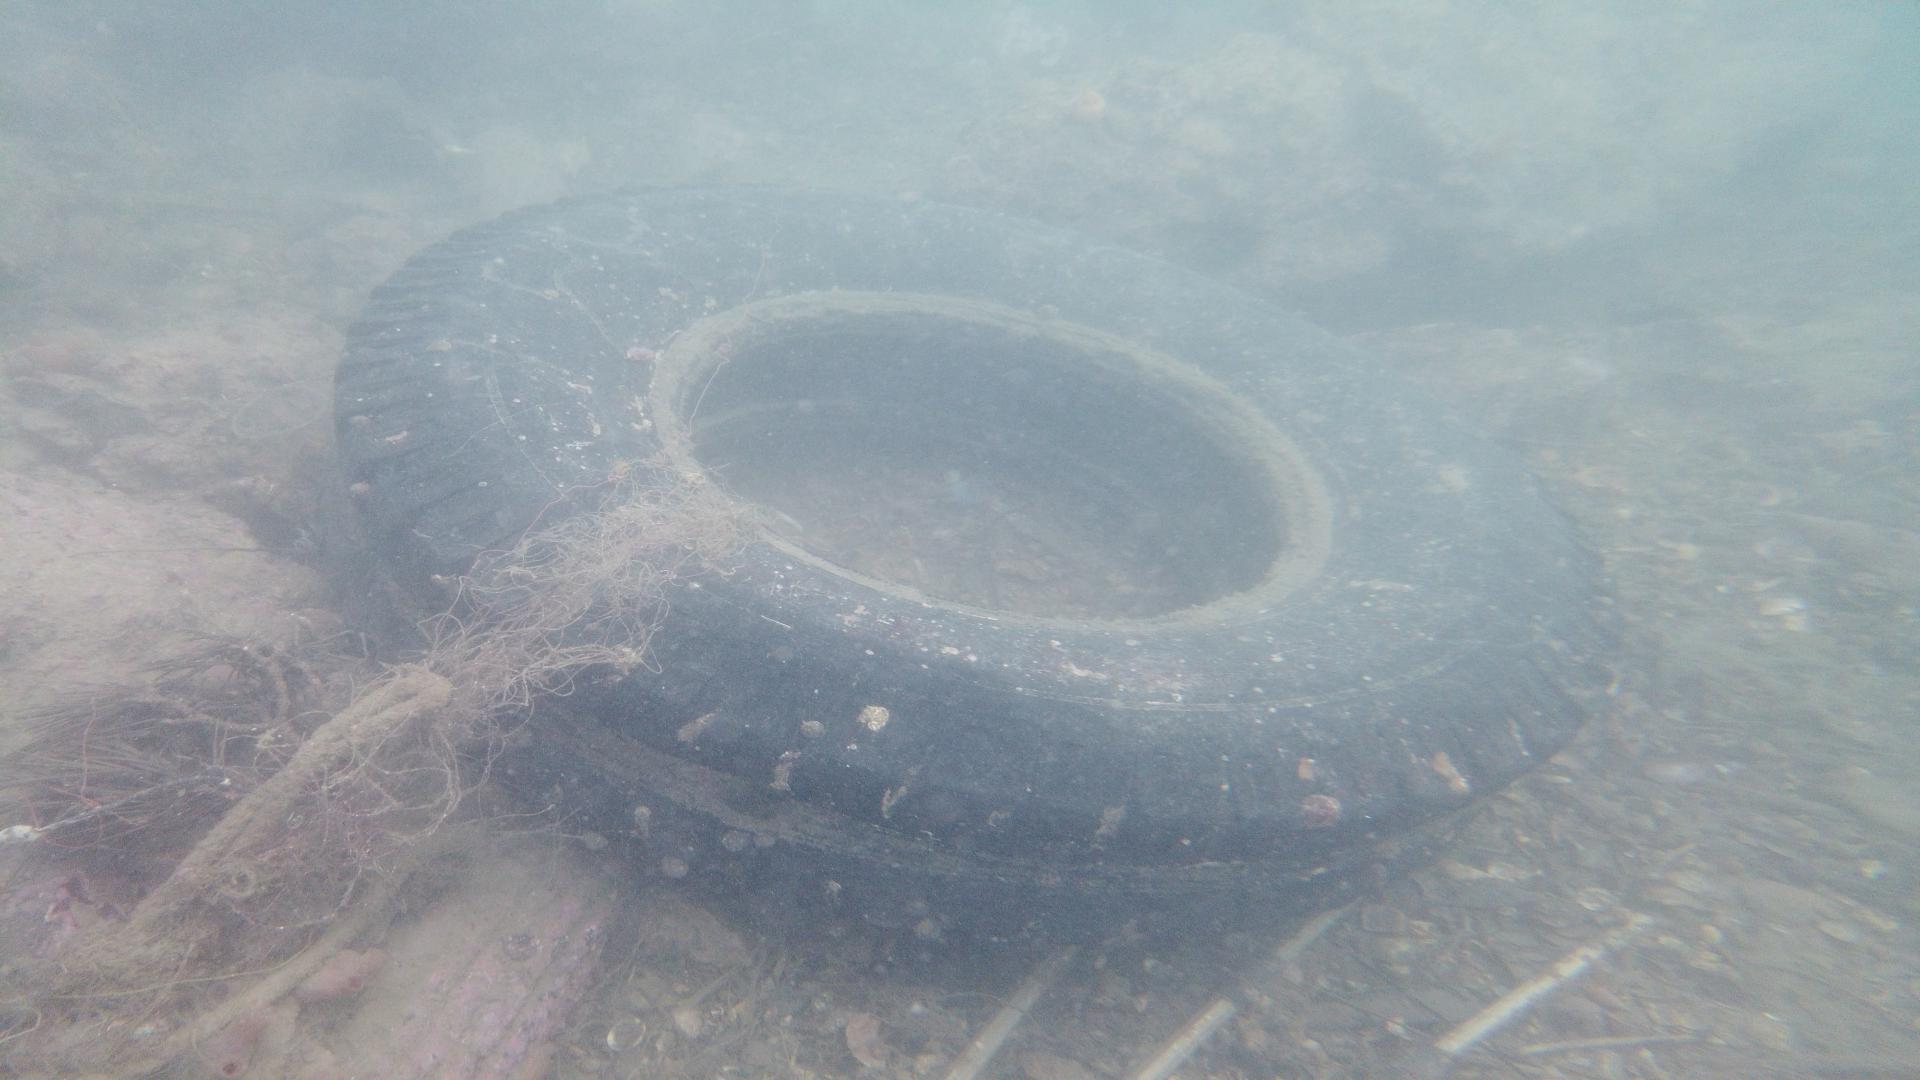rope: (73, 651, 460, 930)
tire: (334, 167, 1627, 959)
